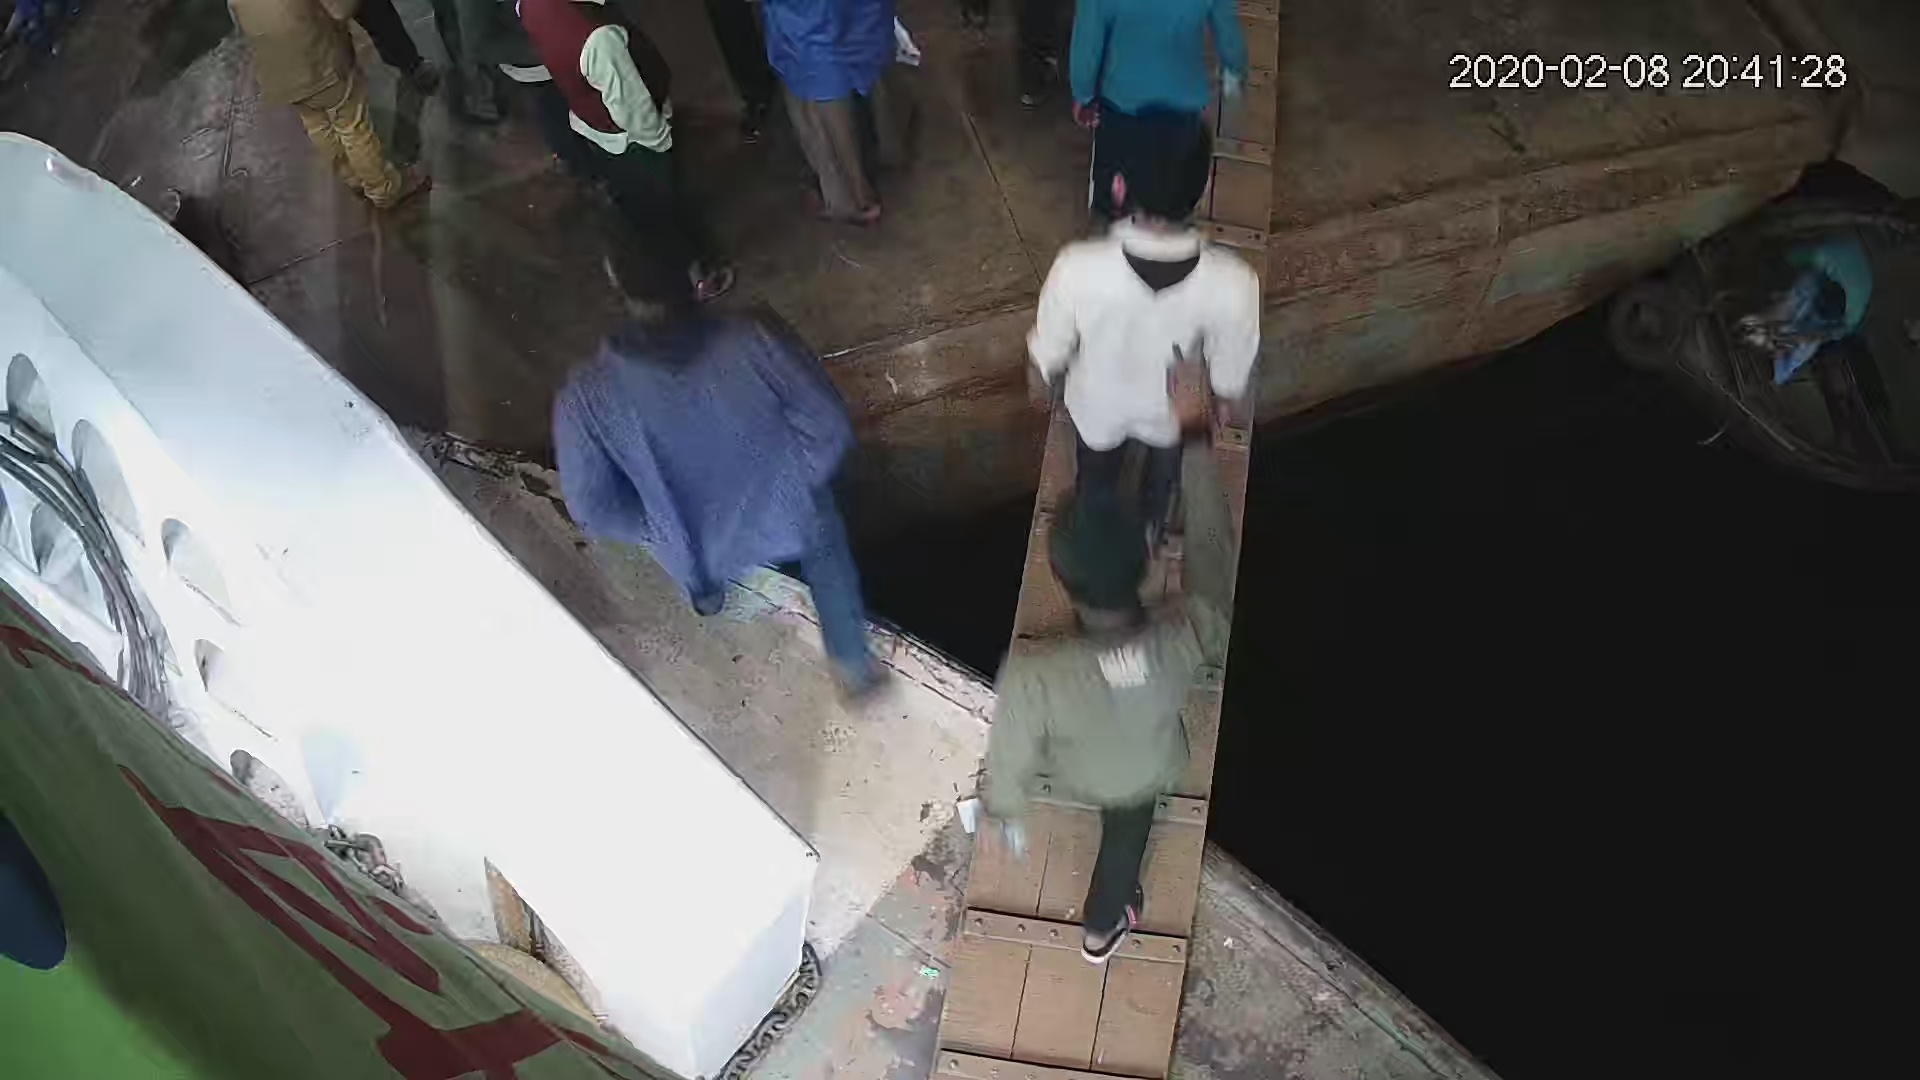person: (540, 218, 908, 718), (986, 490, 1242, 970), (1021, 95, 1269, 518), (513, 1, 740, 305), (241, 1, 433, 222), (1740, 236, 1873, 382)
